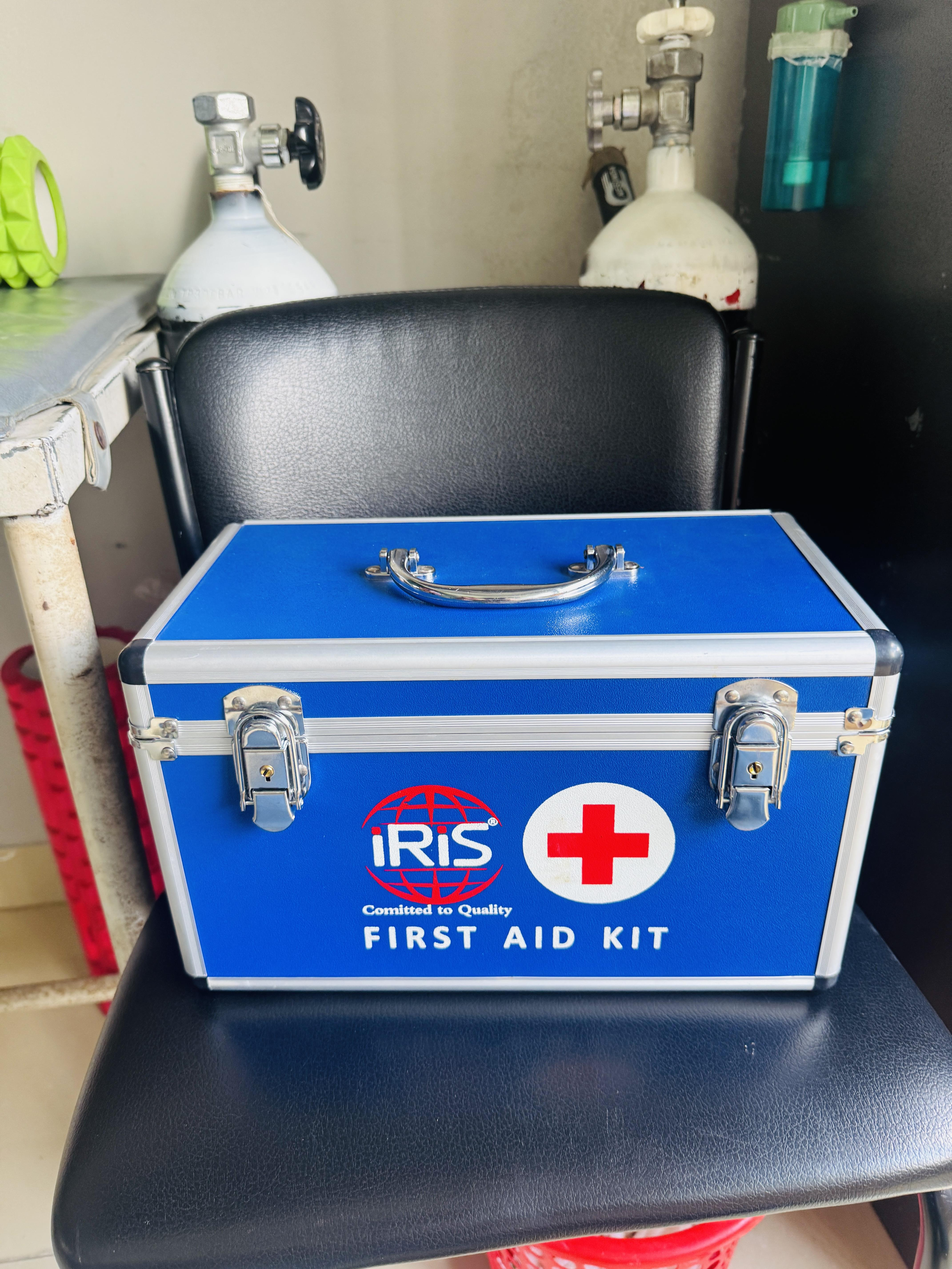FirstAidBox: (80, 500, 921, 1035)
